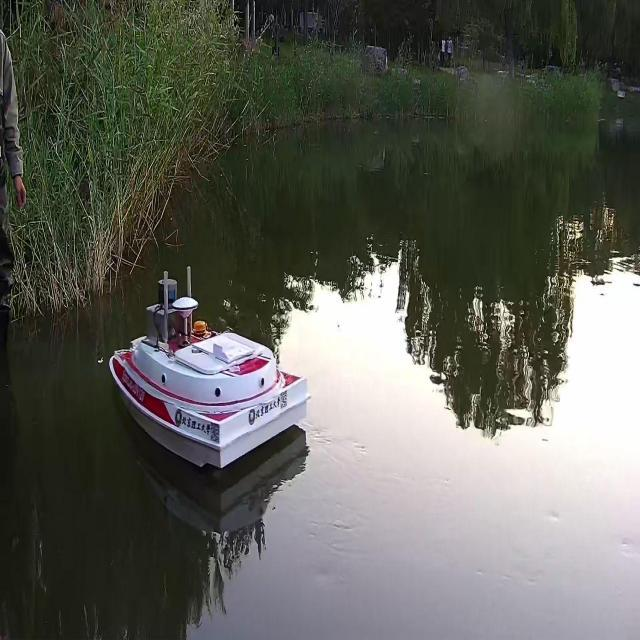CIV_Ship: (110, 268, 312, 472)
